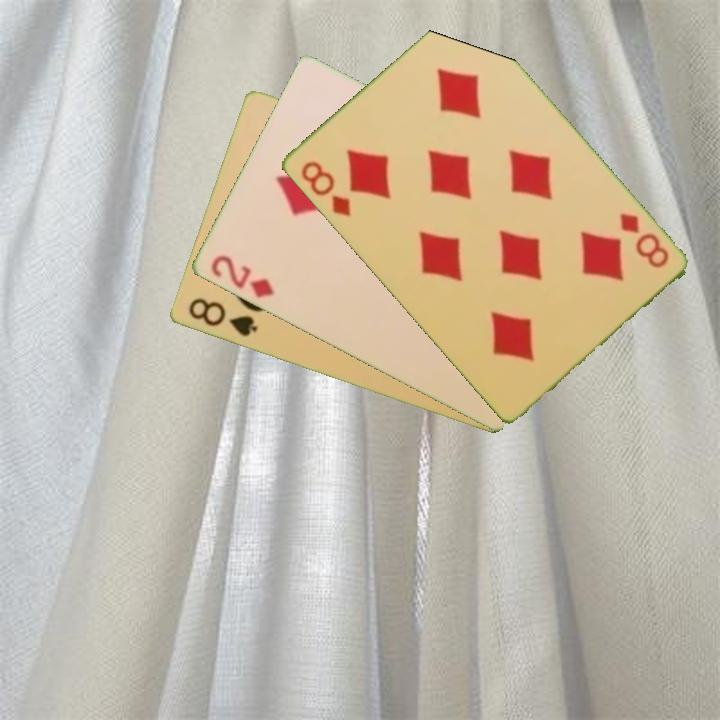2d: (206, 251, 277, 301)
8d: (296, 157, 353, 219), (615, 209, 672, 271)
8s: (184, 294, 260, 340)
